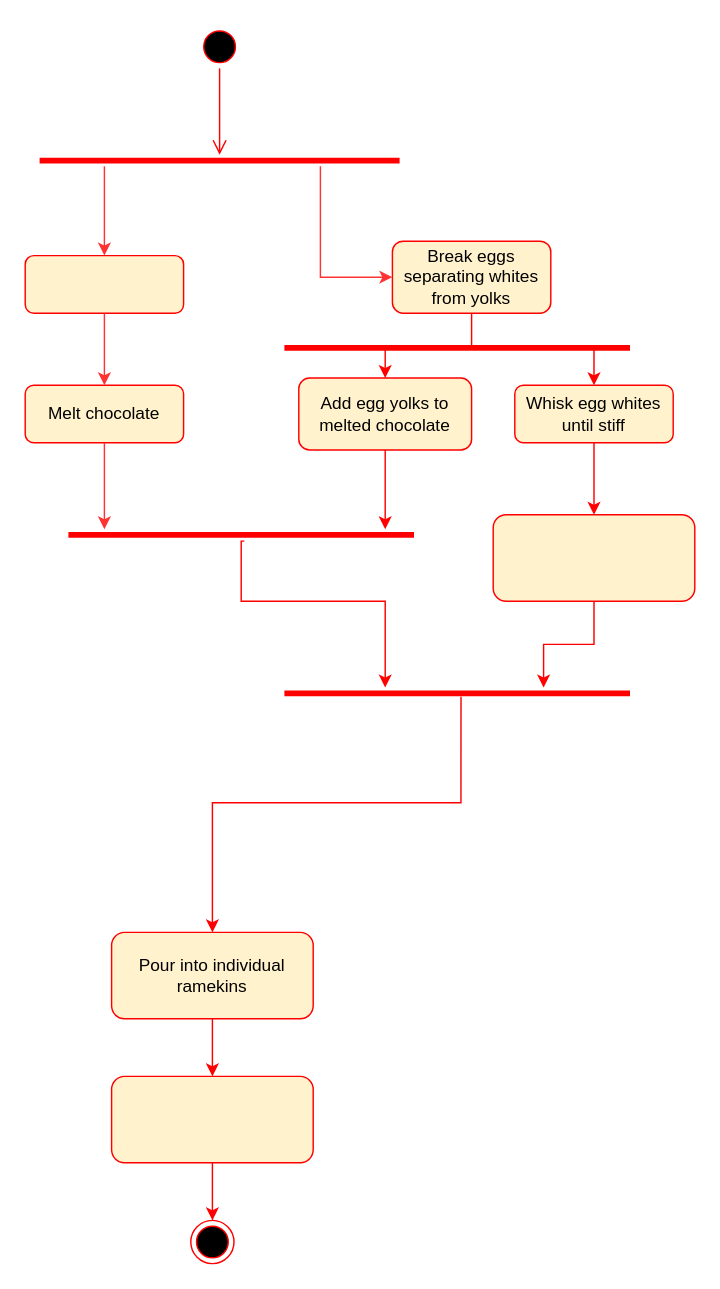
The diagram is 720 pixels wide and 1289 high, and some of its shapes have lost their labels. Each missing label, with the centre of its shape:
Break chocolate into pieces: the point at 104,283
Chill for at least 3 hours in refrigerator: the point at 211,1119
Gently fold egg whites into chocolate mixture: the point at 593,557
